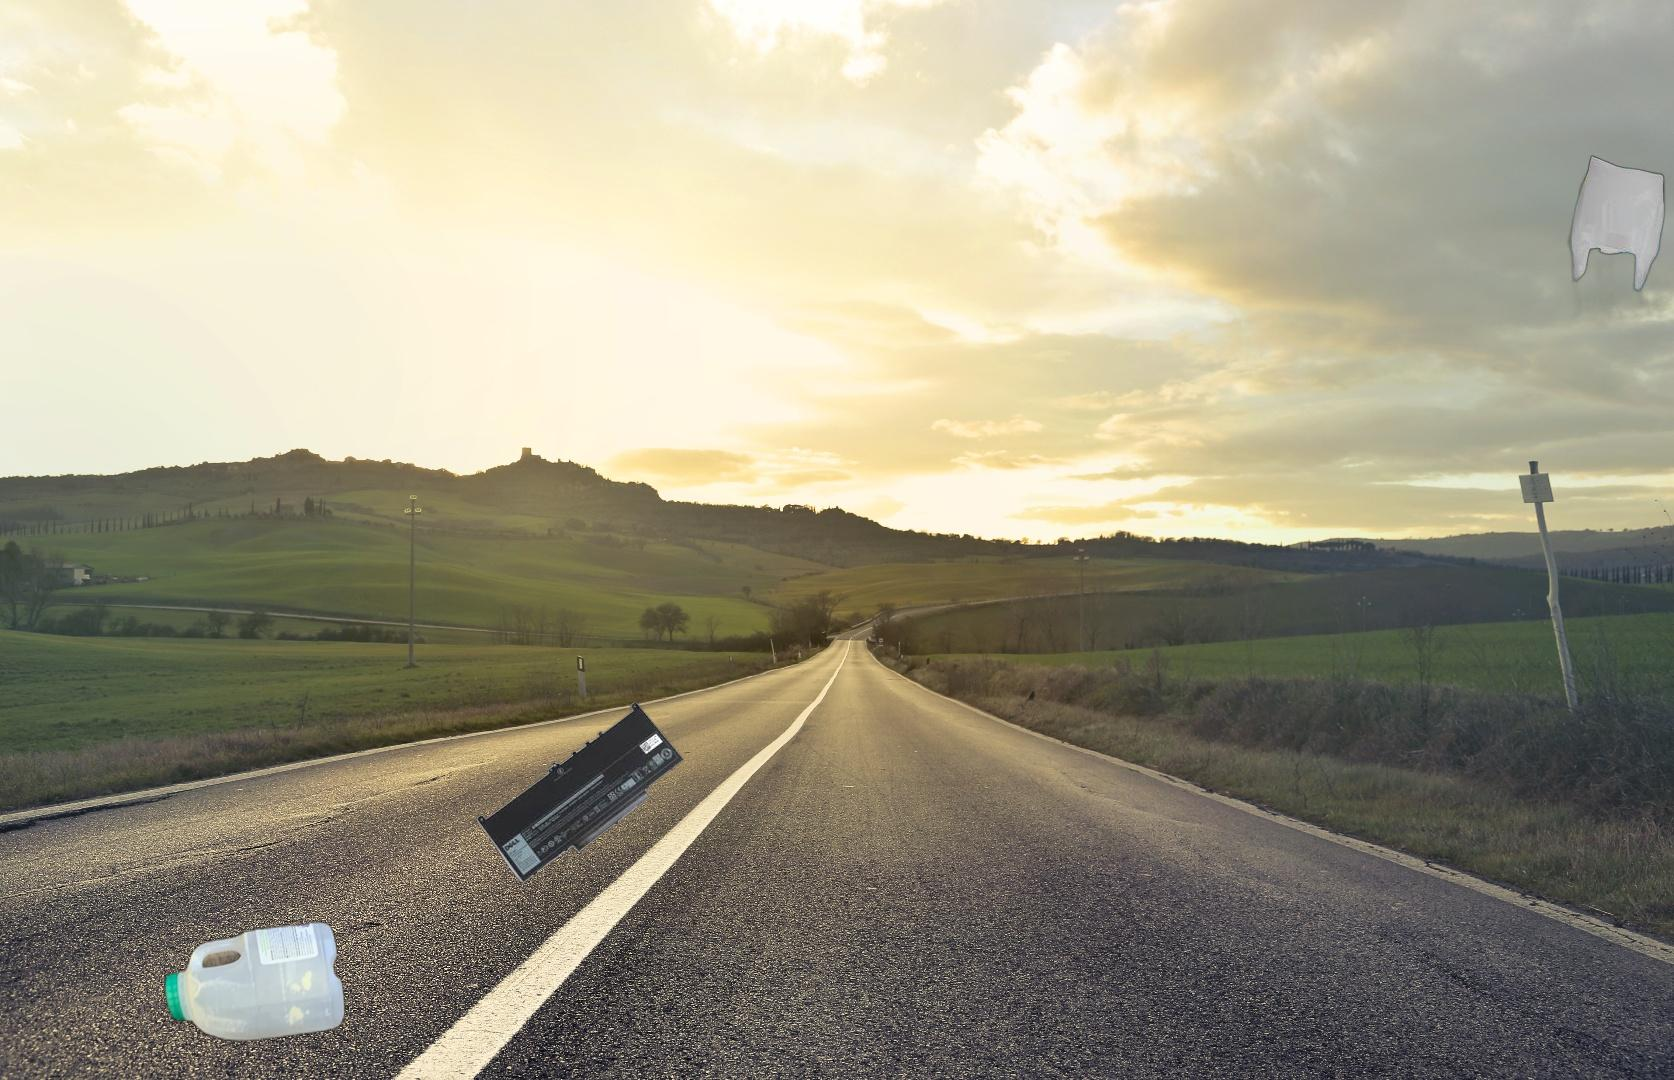battery: (473, 699, 686, 885)
plastic-bag: (1440, 153, 1672, 329)
plastic-bottles: (160, 916, 349, 1047)
